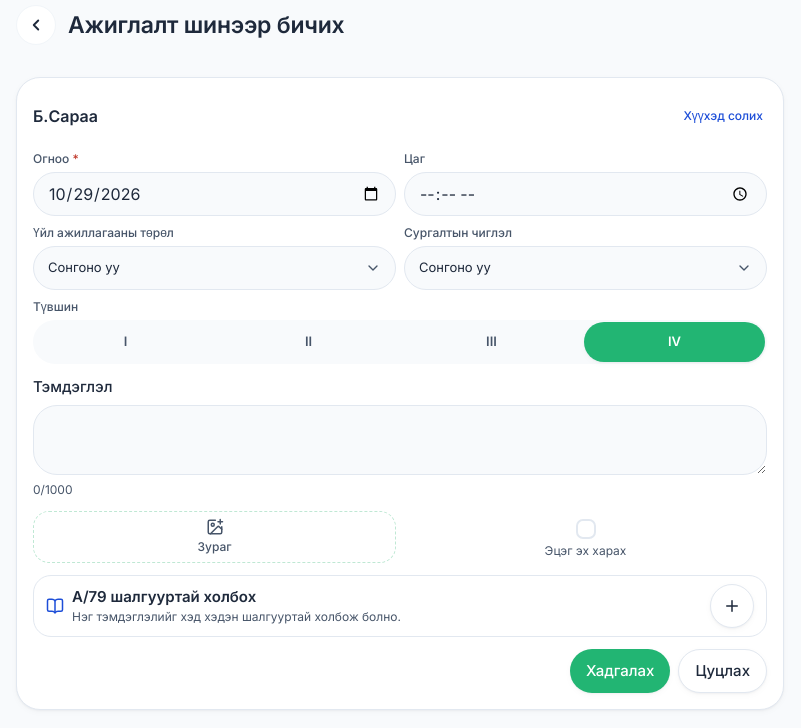
Шинэ ажиглалт — the form's own fields › counts the characters against the limit
Expected: the text "0/1000" is shown, [33, 482, 72, 496]
Type "Тэмдэглэл" into the text box labelled "Тэмдэглэл" at (400, 440), box [33, 404, 767, 474]
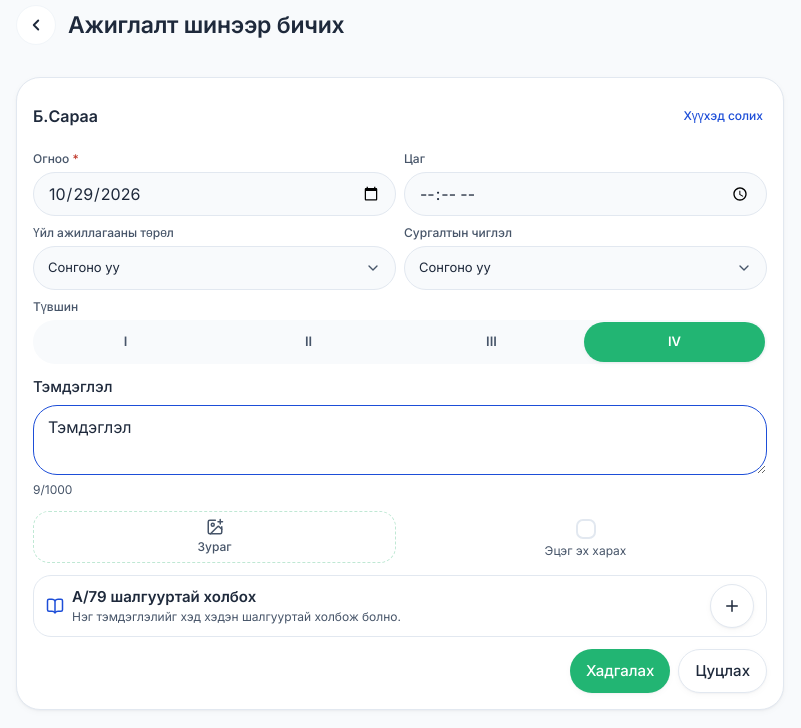
Expected: the text "9/1000" is shown, [33, 482, 72, 496]
